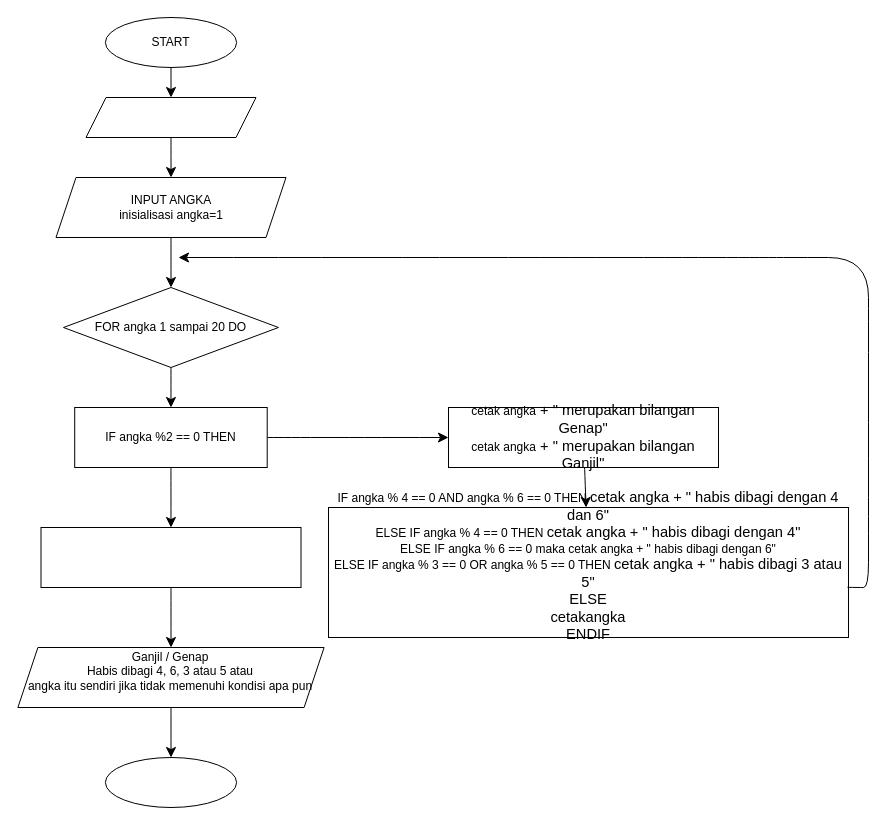
Some shapes in this 886 by 825 pixel diagram are drawn without their labels. Each missing label, with the centre of its shape:
angka: point (170, 117)
END: point (170, 782)
Menampilkan status setiap angka dari 1 sampai 20 berdasarkan kondisi bilangan: point (170, 557)
